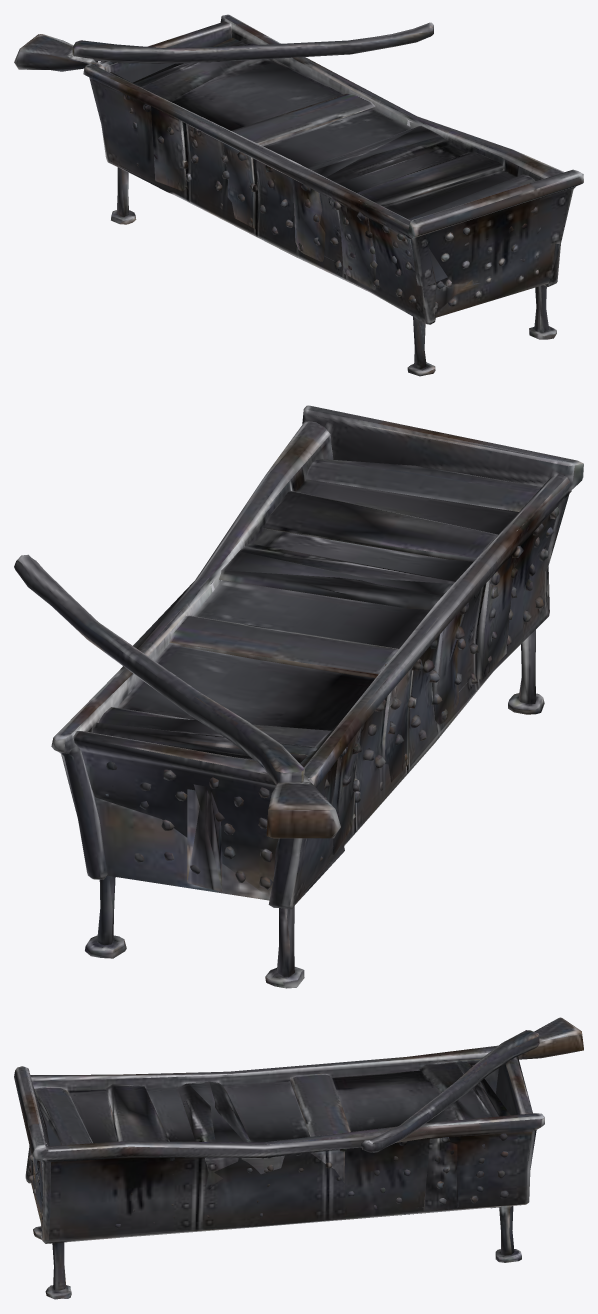
File: fj_calha.glb
3 renders of one model, top to bottom at view 1: azimuth 30°, elevation 25°; view 2: azimuth 150°, elevation 25°; view 3: azimuth 270°, elevation 25°, orthographic. The views are drawn at different scales.
Visible parts, largest first — view 1: Mesh_0.3007; view 2: Mesh_0.3007; view 3: Mesh_0.3007.
Boxes of the visible parts, left/top/right/bottom form: Mesh_0.3007: left=14, top=14, right=583, bottom=376; Mesh_0.3007: left=14, top=405, right=583, bottom=988; Mesh_0.3007: left=14, top=1017, right=583, bottom=1299.
Bounding box in the file's own units: 0.3296 × 0.1823 × 0.5293.
Materials: 1 (1 with a texture image).
